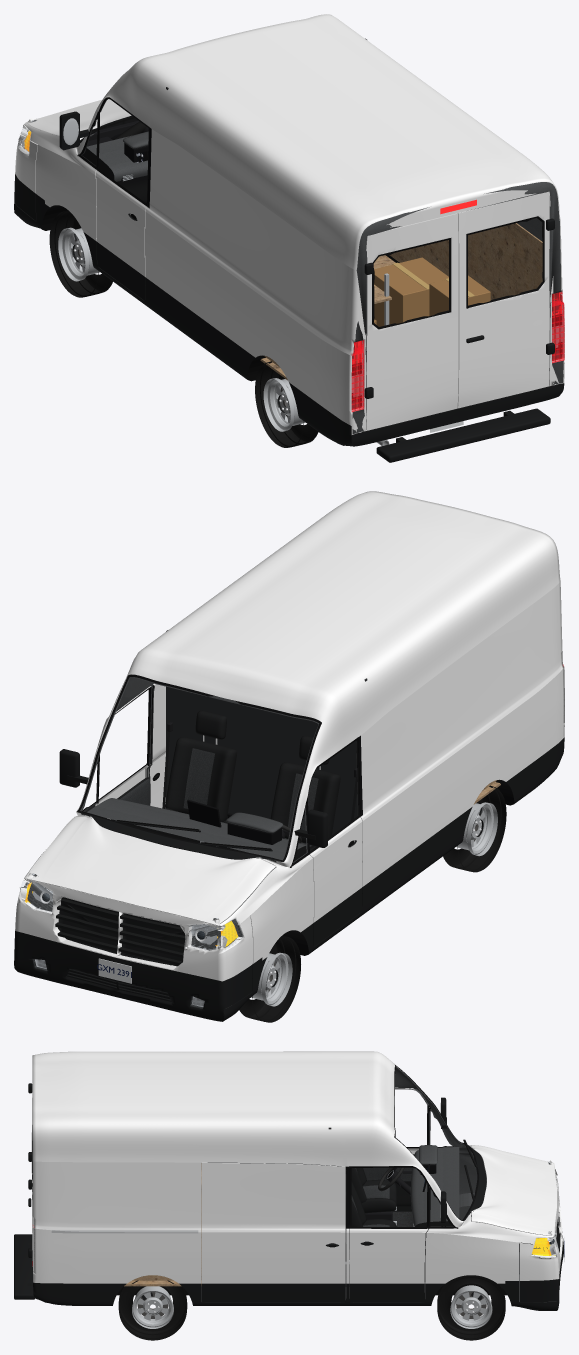
Rendered from van.gltf.
3 views of the same model, one above another, from view 1: azimuth 30°, elevation 25°; view 2: azimuth 150°, elevation 25°; view 3: azimuth 270°, elevation 25° (orthographic). The views are drawn at different scales.
Visible parts, largest first — view 1: body, door.br, door.bl, bumper.r, door.fl, wheel.fl, wheel.rl, bumper.f, hood; view 2: body, bumper.f, hood, door.fl, wheel.fl, wheel.rl, door.fr, door.side; view 3: body, door.side, door.fr, hood, wheel.fr, wheel.rr, bumper.f, bumper.r, door.fl.
Boxes of the visible parts, left/top/right/bottom form: body: left=14, top=14, right=564, bottom=446; door.br: left=457, top=191, right=554, bottom=408; door.bl: left=364, top=213, right=458, bottom=430; bumper.r: left=352, top=383, right=563, bottom=462; door.fl: left=59, top=97, right=149, bottom=301; wheel.fl: left=49, top=210, right=112, bottom=297; wheel.rl: left=255, top=361, right=318, bottom=447; bumper.f: left=14, top=118, right=137, bottom=220; hood: left=26, top=99, right=131, bottom=135; body: left=14, top=491, right=564, bottom=1021; bumper.f: left=14, top=873, right=252, bottom=1021; hood: left=26, top=816, right=276, bottom=926; door.fl: left=294, top=737, right=362, bottom=946; wheel.fl: left=239, top=935, right=300, bottom=1022; wheel.rl: left=443, top=785, right=506, bottom=872; door.fr: left=59, top=687, right=151, bottom=819; door.side: left=150, top=684, right=165, bottom=808; body: left=32, top=1051, right=558, bottom=1318; door.side: left=201, top=1162, right=345, bottom=1302; door.fr: left=349, top=1166, right=446, bottom=1302; hood: left=471, top=1145, right=556, bottom=1235; wheel.fr: left=437, top=1275, right=505, bottom=1340; wheel.rr: left=118, top=1280, right=187, bottom=1340; bumper.f: left=520, top=1160, right=564, bottom=1307; bumper.r: left=14, top=1234, right=34, bottom=1299; door.fl: left=363, top=1088, right=446, bottom=1211.
Bounding box in the file's own units: 2.47 × 2.49 × 5.71.
Materials: 48 (10 with a texture image).
